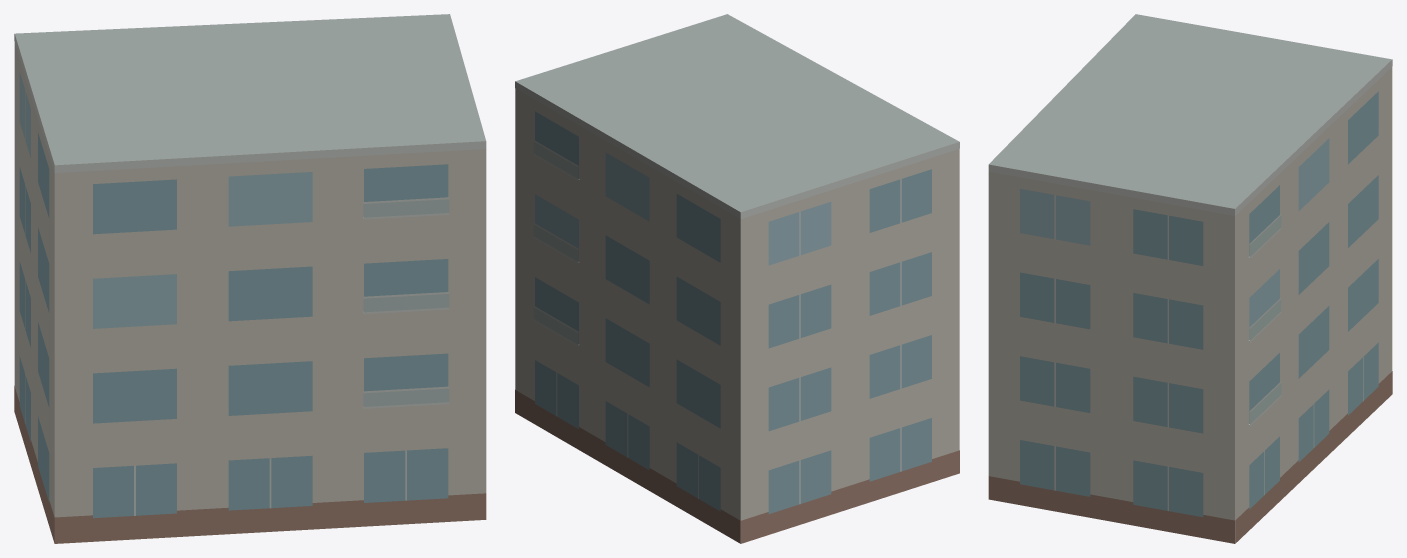
The model's file is survey-upis-32880562.glb.
3 views of the same model, side by side, from view 1: azimuth 30°, elevation 25°; view 2: azimuth 150°, elevation 25°; view 3: azimuth 270°, elevation 25° (orthographic). The views are drawn at different scales.
Parts seen in each view (by area): view 1: survey-upis-32880562.tmp; view 2: survey-upis-32880562.tmp; view 3: survey-upis-32880562.tmp.
Boxes of the visible parts, x1=… form: survey-upis-32880562.tmp: x1=14, y1=14, x2=486, y2=543; survey-upis-32880562.tmp: x1=515, y1=14, x2=959, y2=543; survey-upis-32880562.tmp: x1=988, y1=14, x2=1392, y2=543.
Size of the model in its own units: 14.61 by 11.7 by 12.79.
